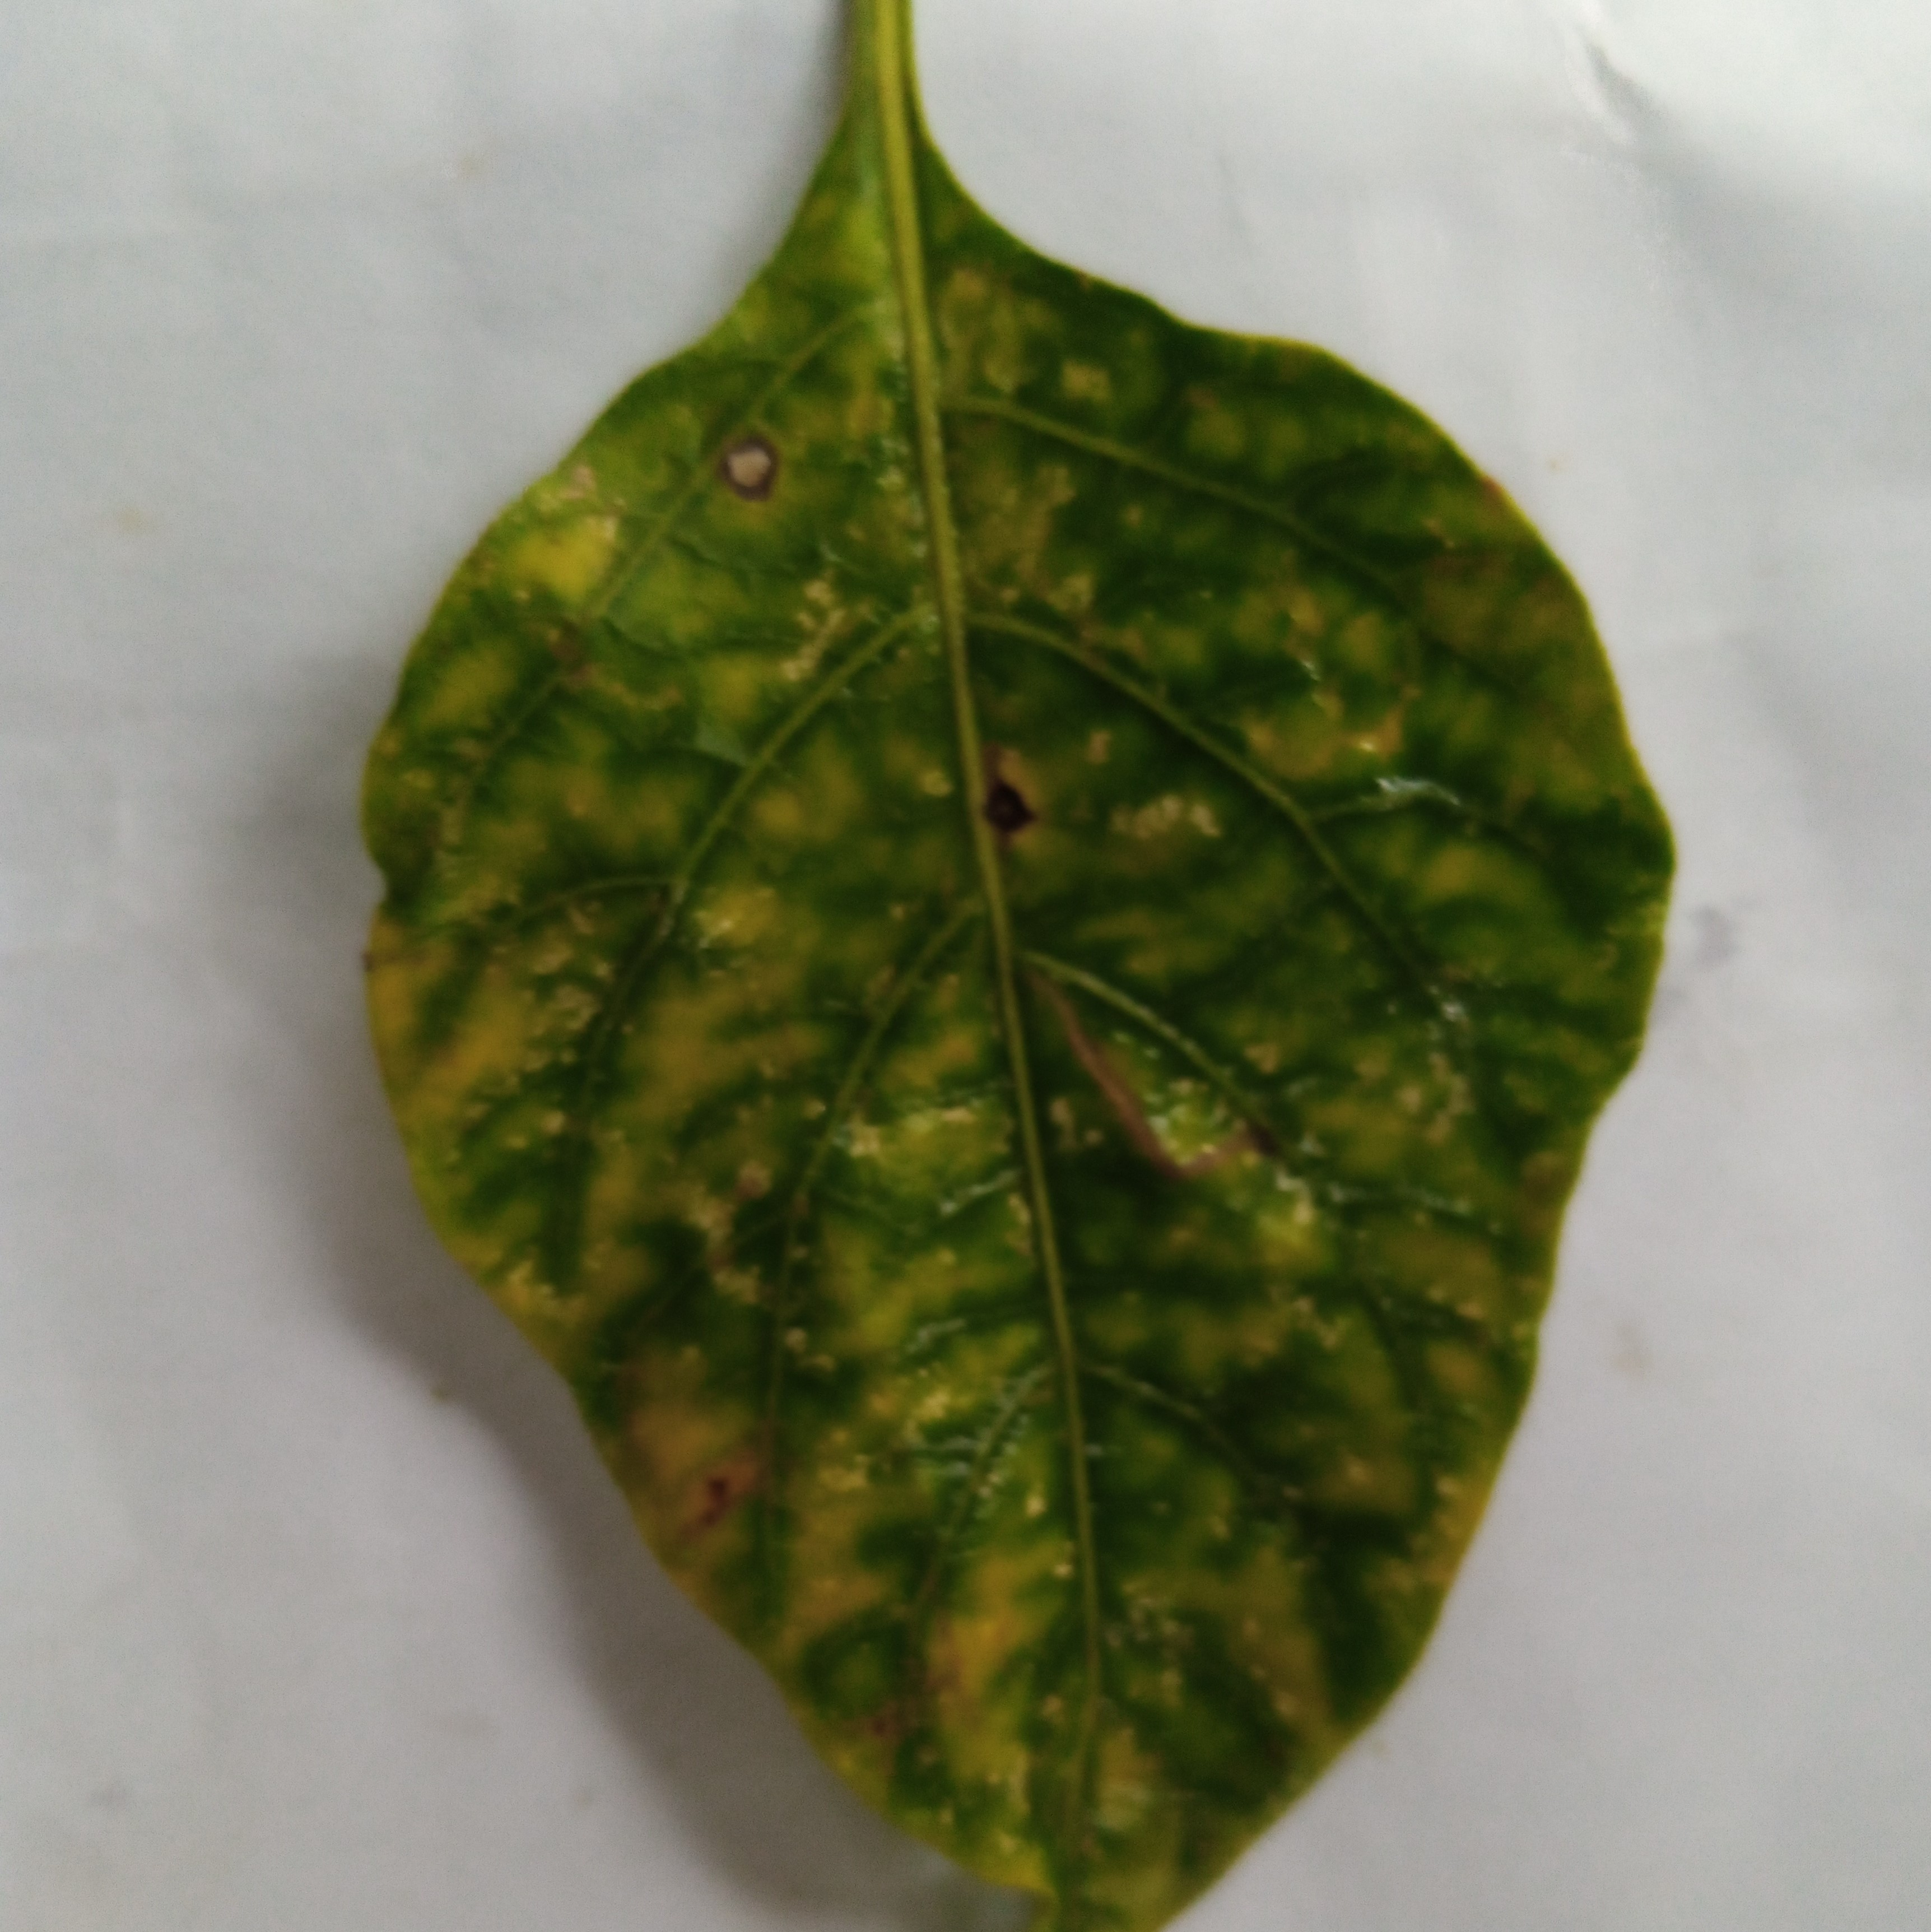Leaf: (219, 81, 1876, 1932)
